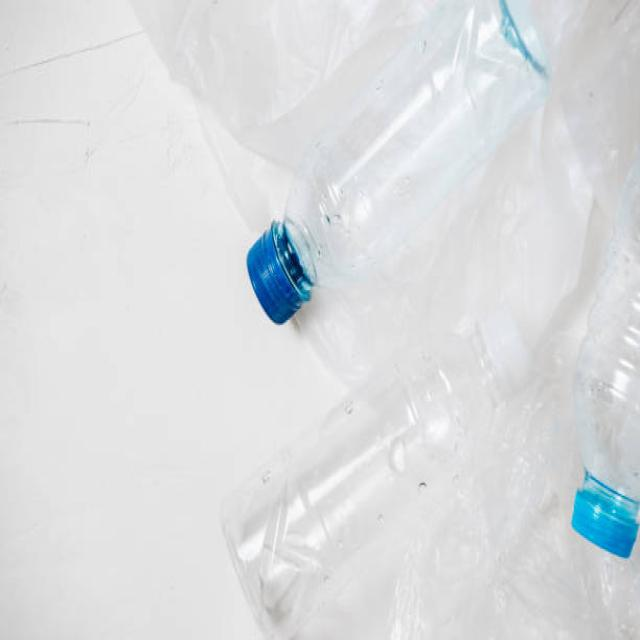plastic: (219, 309, 551, 637)
